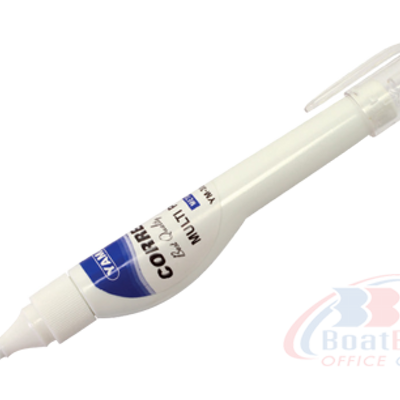Correction_fluid: (1, 43, 400, 365)
